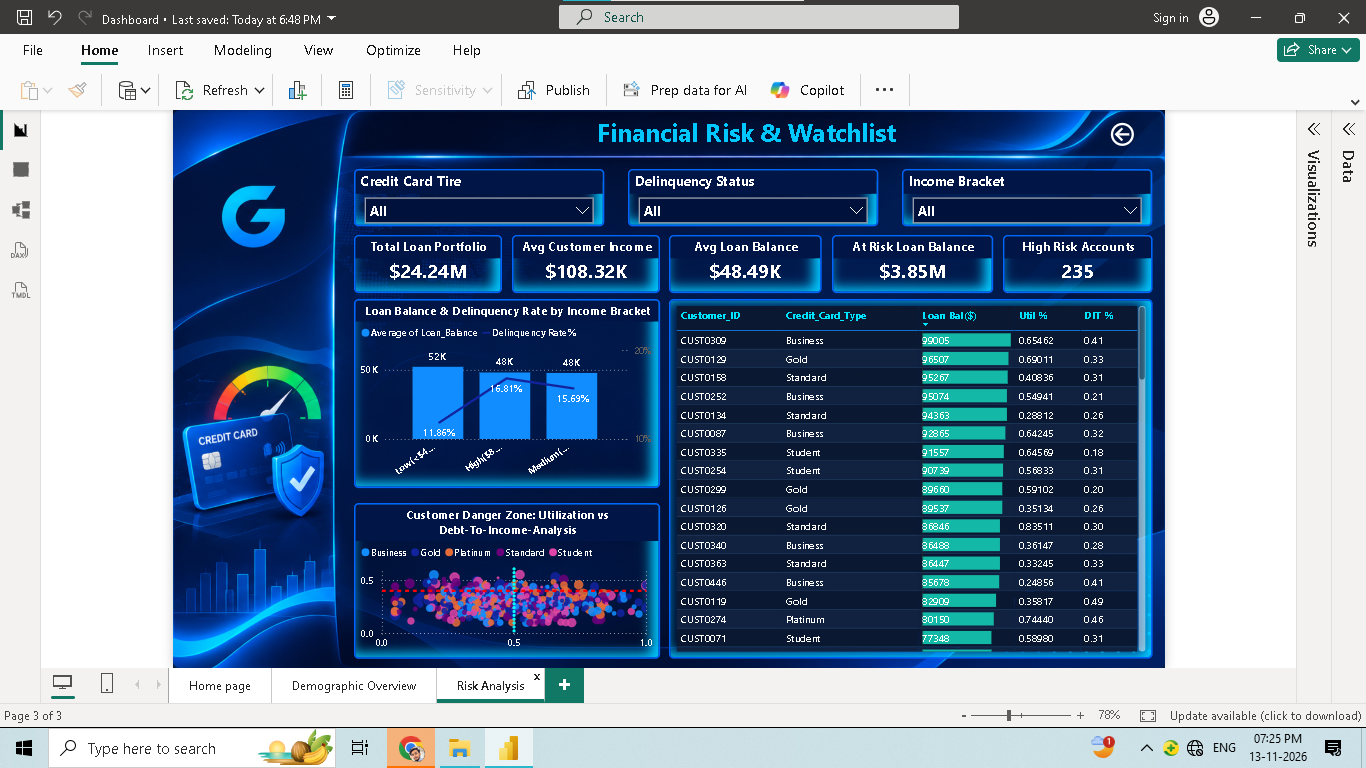

The dashboard page shown, as its layout file describes it:
{"tool":"powerbi","page":{"name":"Risk Analysis","canvas":[1280,720],"ordinal":2},"visuals":[{"type":"slicer","title":"Credit Card Tire","fields":{"Values":["Final_cleaned_dataset.Credit Score_Tire"]},"box":[233.9,76.5,323,73.7],"z":0},{"type":"slicer","title":"Delinquency Status","fields":{"Values":["Final_cleaned_dataset.Delinquency Status"]},"box":[586.8,76.5,323.1,73.7],"z":1000},{"type":"slicer","title":"Income Bracket","fields":{"Values":["Final_cleaned_dataset.Income Bracket"]},"box":[941.1,76.5,323.1,73.7],"z":2000},{"type":"card","title":"At Risk Loan Balance","fields":{"Values":["Final_cleaned_dataset.At risk loan balance"]},"box":[850.4,161.6,208.3,75.1],"z":3000},{"type":"card","title":"Avg Customer Income","fields":{"Values":["Final_cleaned_dataset.Avg Customer Income"]},"box":[438,161.6,191.3,75.1],"z":4000},{"type":"card","title":"Avg Loan Balance","fields":{"Values":["Final_cleaned_dataset.Avg Loan Balance"]},"box":[640.6,161.6,197,75.1],"z":5000},{"type":"card","title":"Total Loan Portfolio","fields":{"Values":["Final_cleaned_dataset.Total Loan Portfolio"]},"box":[233.9,161.6,191.3,75.1],"z":6000},{"type":"textbox","box":[292,0,895.7,60.9],"z":7000},{"type":"lineClusteredColumnComboChart","title":"Loan Balance & Delinquency Rate by Income Bracket","fields":{"Category":["Final_cleaned_dataset.Income Bracket"],"Y":["Avg(Final_cleaned_dataset.Loan_Balance)"],"Y2":["Final_cleaned_dataset.Delinquency Rate%"]},"box":[234,243.6,395,243.6],"z":8000},{"type":"card","title":"High Risk Accounts","fields":{"Values":["Final_cleaned_dataset.High-Risk Accounts"]},"box":[1071.5,161.6,192.8,75.1],"z":9000},{"type":"scatterChart","title":"Customer Danger Zone: Utilization vs Debt-To-Income-Analysis","fields":{"Category":["Final_cleaned_dataset.Customer_ID"],"X":["Avg(Final_cleaned_dataset.Credit_Utilization)"],"Y":["Avg(Final_cleaned_dataset.Debt_to_Income_Ratio)"],"Series":["Final_cleaned_dataset.Credit_Card_Type"],"Size":["Sum(Final_cleaned_dataset.Loan_Balance)"]},"box":[234,506.5,395,200.9],"z":10000},{"type":"tableEx","fields":{"Values":["Final_cleaned_dataset.Customer_ID","Final_cleaned_dataset.Credit_Card_Type","Sum(Final_cleaned_dataset.Loan_Balance)","Sum(Final_cleaned_dataset.Credit_Utilization)","Sum(Final_cleaned_dataset.Debt_to_Income_Ratio)"]},"box":[640,243.6,624,463.8],"z":11000},{"type":"actionButton","box":[1204.7,11.3,59.5,39.7],"z":12000}]}

Visuals, with their boxes on the page's 1280x720 design canvas (x1, y1, x2, y2). These are canvas units, not pixel positions in the 1366x768 screenshot, which may show the page scaled, cropped or inside an application window:
"Credit Card Tire" slicer: 234/76/557/150
"Delinquency Status" slicer: 587/76/910/150
"Income Bracket" slicer: 941/76/1264/150
"At Risk Loan Balance" card: 850/162/1059/237
"Avg Customer Income" card: 438/162/629/237
"Avg Loan Balance" card: 641/162/838/237
"Total Loan Portfolio" card: 234/162/425/237
textbox: 292/0/1188/61
"Loan Balance & Delinquency Rate by Income Bracket" lineClusteredColumnComboChart: 234/244/629/487
"High Risk Accounts" card: 1072/162/1264/237
"Customer Danger Zone: Utilization vs Debt-To-Income-Analysis" scatterChart: 234/506/629/707
tableEx - Final_cleaned_dataset.Customer_ID x Final_cleaned_dataset.Credit_Card_Type: 640/244/1264/707
actionButton: 1205/11/1264/51
